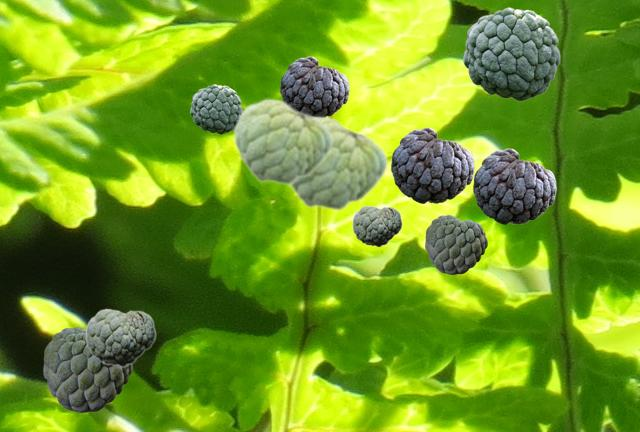atis: (286, 114, 387, 211), (463, 7, 559, 100), (232, 97, 332, 185), (43, 327, 131, 411), (473, 148, 555, 223), (391, 127, 473, 202), (85, 308, 155, 366), (280, 56, 348, 115), (425, 215, 486, 273), (190, 84, 241, 133), (352, 205, 401, 246)
